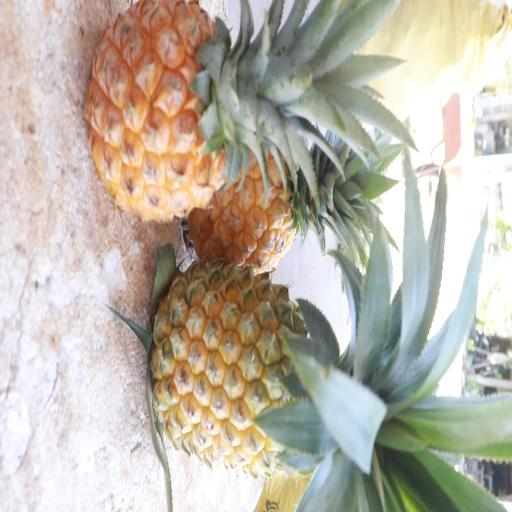Pineapple - v8 v1: (146, 260, 398, 470), (84, 0, 304, 228), (186, 130, 348, 272)
